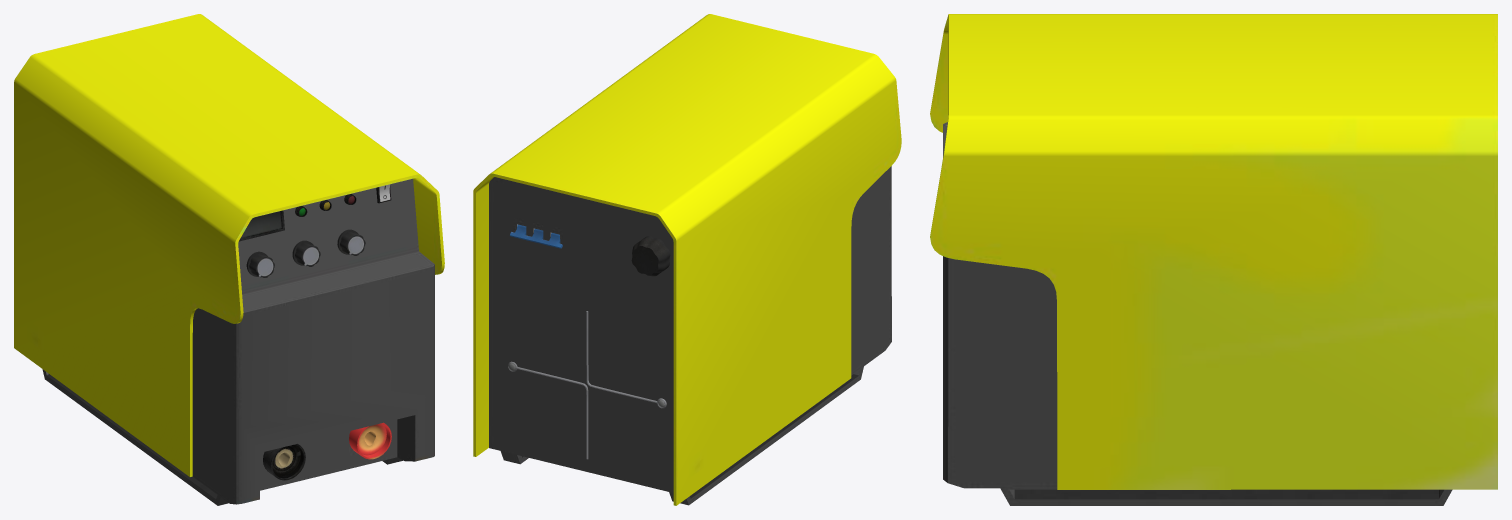
File: welding_machine_yellow.glb
The picture shows the model from 3 angles, left to right: view 1: azimuth 30°, elevation 25°; view 2: azimuth 150°, elevation 25°; view 3: azimuth 270°, elevation 25°; orthographic projection. The views are drawn at different scales.
Visible parts, largest first — view 1: case_low, body_low, connectors_low, rack_low, tumblersfronf_low, caseonoff_low; view 2: case_low, body_low, rack_low, socket_low, fastening_low; view 3: case_low, body_low, rack_low.
Part boxes in pixels (x1=…): case_low: x1=14, y1=14, x2=444, y2=476; body_low: x1=192, y1=178, x2=434, y2=504; connectors_low: x1=263, y1=422, x2=391, y2=480; rack_low: x1=42, y1=369, x2=402, y2=505; tumblersfronf_low: x1=246, y1=229, x2=365, y2=277; caseonoff_low: x1=239, y1=186, x2=391, y2=241; case_low: x1=473, y1=14, x2=901, y2=505; body_low: x1=489, y1=166, x2=891, y2=492; rack_low: x1=500, y1=366, x2=863, y2=505; socket_low: x1=631, y1=236, x2=670, y2=276; fastening_low: x1=508, y1=311, x2=666, y2=459; case_low: x1=930, y1=14, x2=1497, y2=489; body_low: x1=943, y1=122, x2=1057, y2=488; rack_low: x1=1000, y1=488, x2=1452, y2=505.
Bounding box in the file's own units: 0.269 × 0.386 × 0.5169.
Materials: 2 (2 with a texture image).
